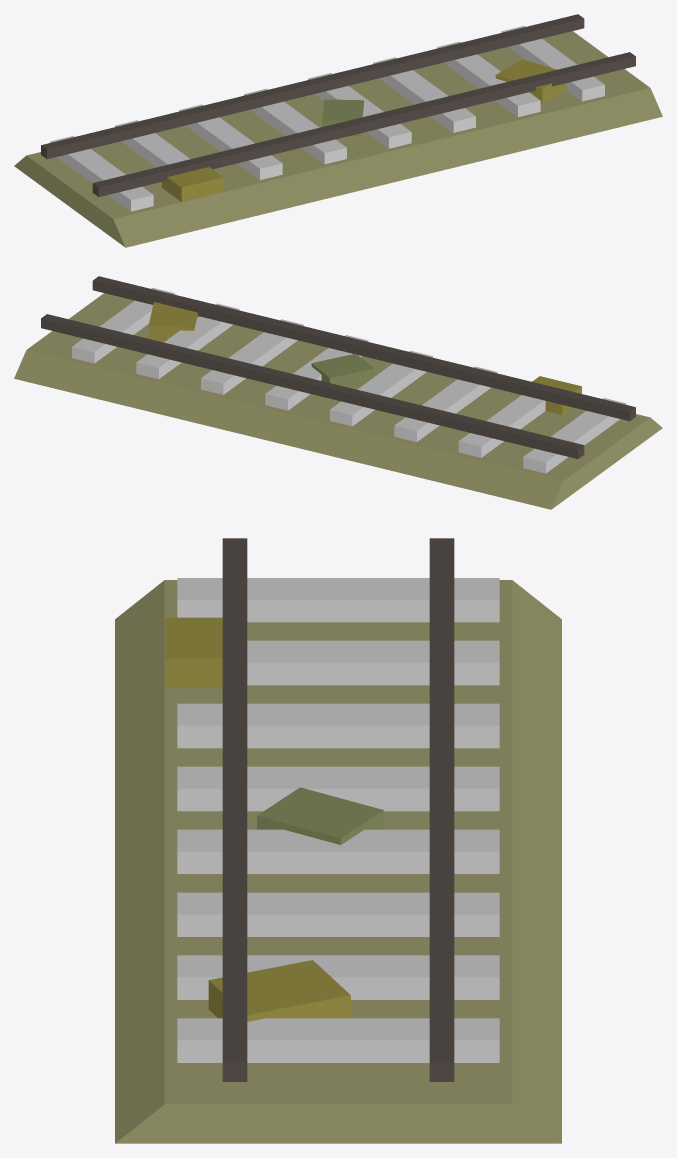
The model's file is SM_Via_Recta10_v2_Maleza_LOD1.fbx.
3 views of the same model, one above another, from view 1: azimuth 30°, elevation 25°; view 2: azimuth 150°, elevation 25°; view 3: azimuth 270°, elevation 25° (orthographic). The views are drawn at different scales.
Parts seen in each view (by area): view 1: SM_via_trazado_v2_LOD1; view 2: SM_via_trazado_v2_LOD1; view 3: SM_via_trazado_v2_LOD1.
Part boxes in pixels (<box>): SM_via_trazado_v2_LOD1: <box>14,14,662,247</box>; SM_via_trazado_v2_LOD1: <box>14,276,662,509</box>; SM_via_trazado_v2_LOD1: <box>115,538,561,1143</box>.
Size of the model in its own units: 10 by 0.72 by 3.6.
